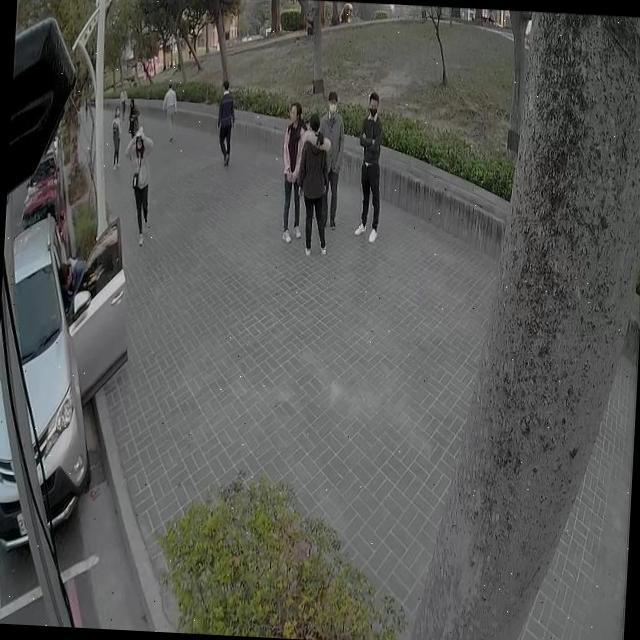person: (297, 112, 333, 257), (356, 91, 386, 242), (122, 123, 156, 243), (280, 100, 308, 242), (322, 88, 347, 223), (216, 78, 240, 170), (159, 76, 182, 146), (57, 256, 84, 312), (111, 106, 122, 169), (130, 99, 140, 146)
